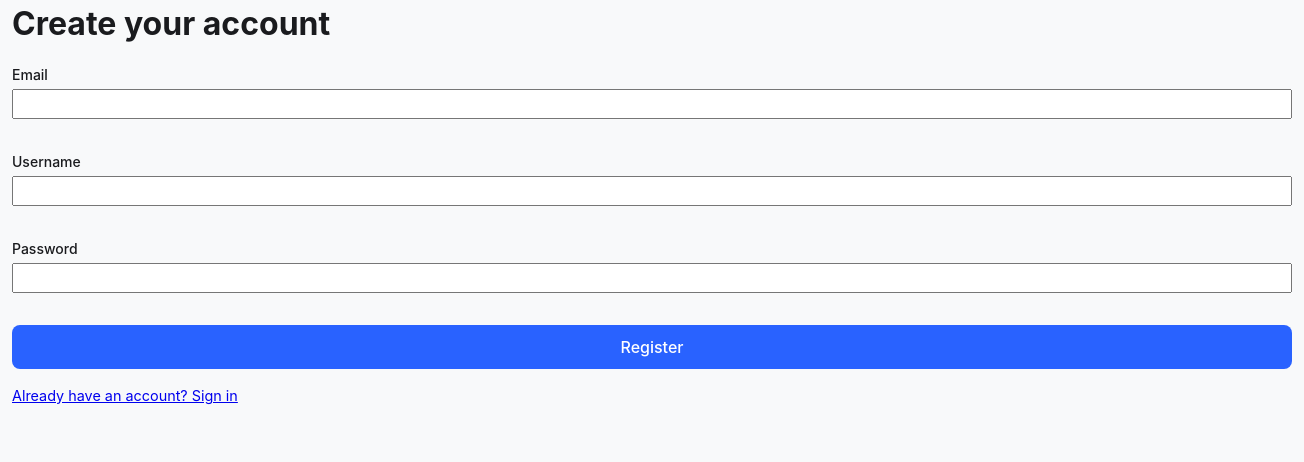
RegisterForm › shows a coded error message when the API rejects
In the field labelled "Email": (652, 104) [12,89,1292,119], type "a@b.co"
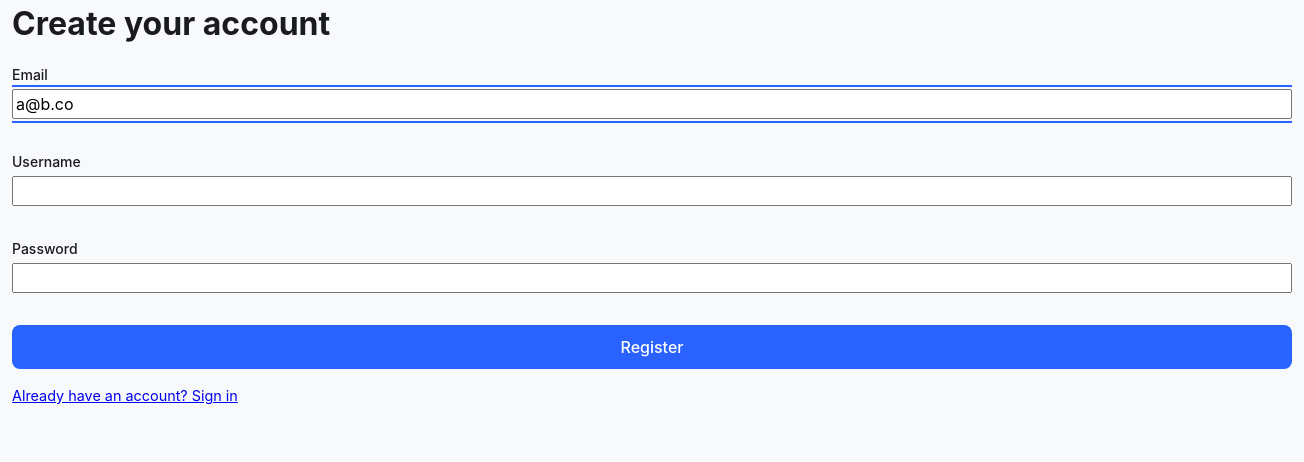
In the field labelled "Username": (652, 191) [12,176,1292,206], type "neo"
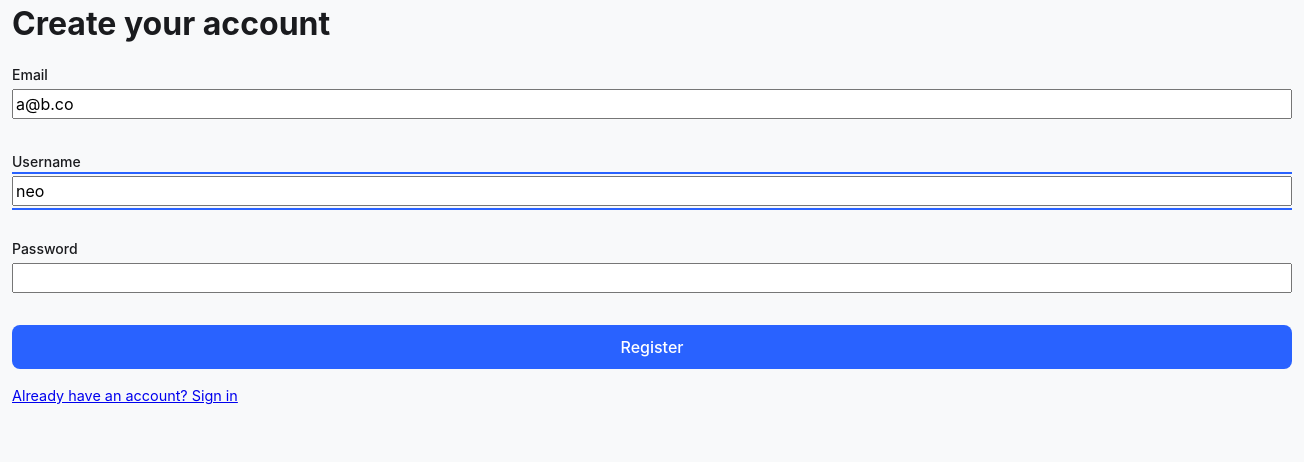
In the password field labelled "Password": (652, 278) [12,263,1292,293], type "secret12"
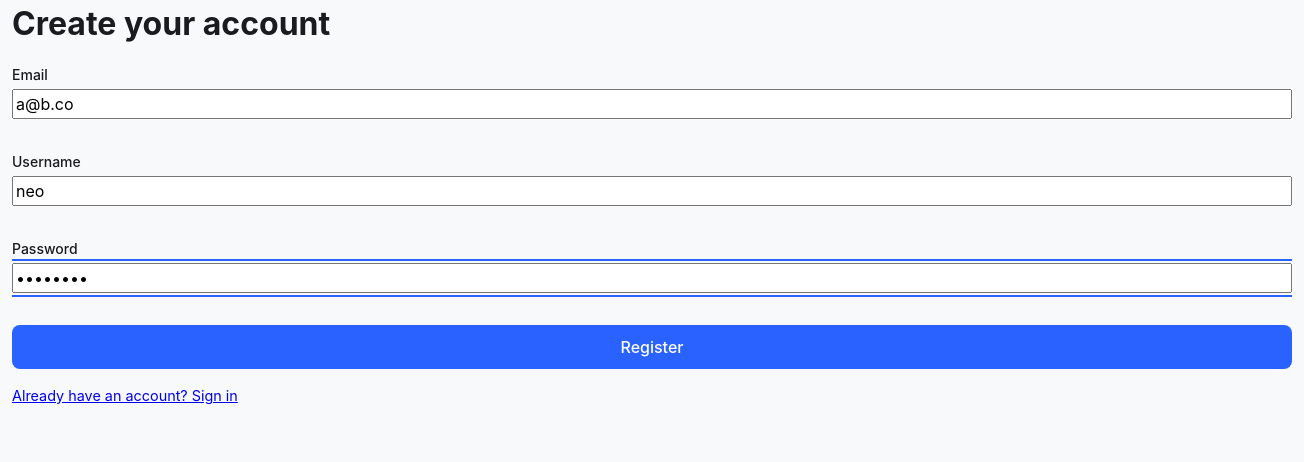
Click the button "Register": (652, 347) [12,325,1292,369]
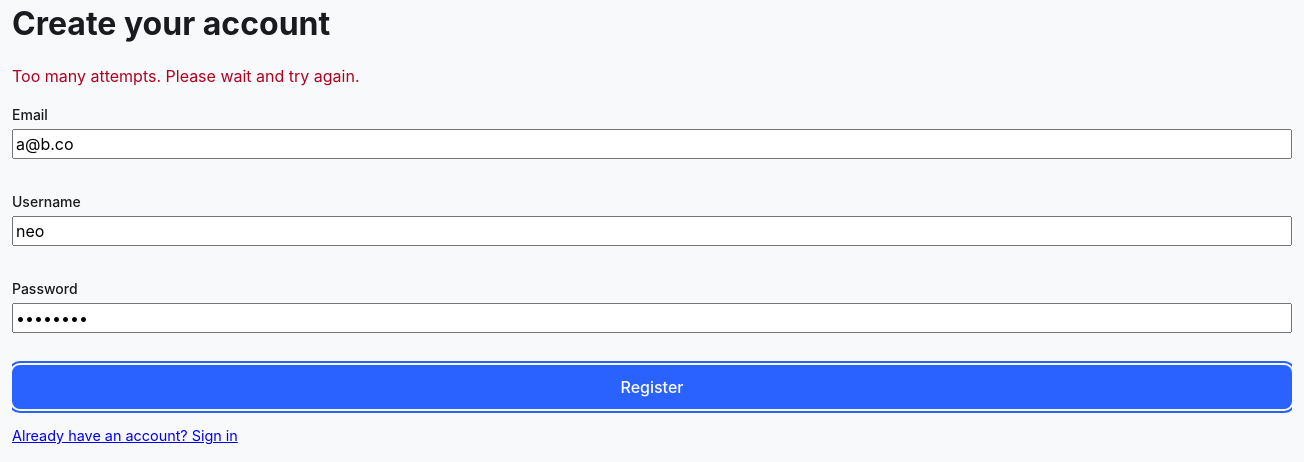
Now the text "Too many attempts. Please wait and try again." is shown, box [12,66,360,86]
